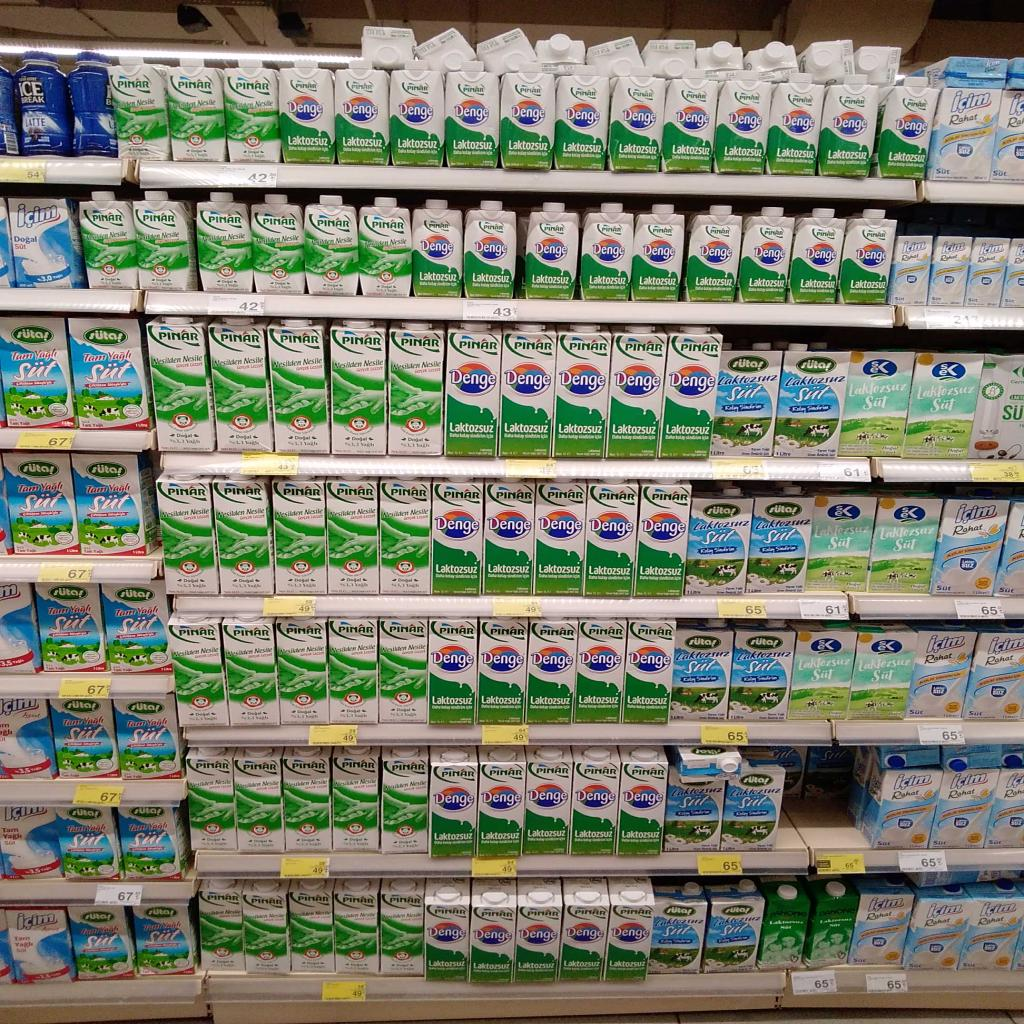price_tag: (216, 164, 278, 188), (924, 307, 984, 329), (208, 293, 265, 316), (240, 453, 299, 475), (58, 676, 110, 699), (711, 458, 767, 479), (970, 461, 1023, 483), (463, 300, 518, 321), (73, 784, 123, 807), (799, 597, 849, 620), (819, 460, 871, 482), (15, 431, 75, 450), (0, 159, 45, 184), (37, 563, 93, 583), (918, 722, 966, 745), (791, 971, 837, 995), (955, 598, 1005, 620), (263, 596, 315, 617), (898, 850, 947, 872), (280, 857, 328, 879), (95, 883, 142, 905), (718, 598, 768, 618), (492, 597, 542, 617), (697, 853, 742, 875), (701, 724, 748, 745), (816, 853, 865, 873), (309, 725, 357, 745), (506, 459, 556, 478), (321, 980, 366, 1001), (481, 725, 528, 745), (471, 857, 516, 877), (866, 972, 908, 993)
product: (68, 318, 154, 430), (147, 316, 215, 450), (72, 453, 159, 557), (903, 352, 985, 459), (209, 318, 274, 452), (772, 344, 848, 458), (0, 318, 76, 429), (268, 318, 330, 453), (659, 326, 721, 459), (711, 343, 782, 457), (605, 326, 666, 458), (551, 324, 611, 458), (839, 351, 914, 457), (931, 496, 1009, 596), (4, 452, 79, 555), (156, 474, 220, 594), (498, 324, 554, 458), (330, 321, 386, 455), (388, 322, 444, 455), (867, 496, 942, 594), (684, 489, 753, 595), (925, 84, 1000, 181), (8, 197, 87, 289), (213, 476, 274, 594), (446, 323, 500, 456), (806, 495, 879, 592), (845, 623, 915, 720), (860, 767, 942, 849), (100, 581, 172, 674), (789, 622, 857, 720), (906, 623, 976, 718), (728, 621, 795, 720), (169, 614, 228, 726), (634, 482, 691, 597), (133, 191, 198, 291), (872, 82, 939, 179), (745, 496, 812, 593), (36, 583, 107, 674), (272, 477, 327, 594), (670, 620, 734, 720), (222, 616, 280, 725), (325, 478, 379, 594), (584, 482, 638, 597), (818, 75, 878, 178), (847, 875, 913, 968), (110, 60, 171, 160), (14, 51, 72, 156), (958, 879, 1023, 971), (168, 58, 226, 161), (609, 65, 665, 171), (431, 481, 483, 595), (714, 73, 773, 173), (534, 480, 585, 595), (766, 75, 824, 176), (968, 354, 1023, 460), (702, 879, 764, 973), (662, 70, 719, 172), (390, 61, 445, 166), (224, 60, 280, 163), (380, 479, 430, 594), (484, 479, 534, 594), (905, 884, 971, 971), (275, 618, 328, 726), (335, 61, 390, 165), (197, 192, 253, 294), (963, 625, 1023, 720), (648, 878, 708, 973), (50, 698, 120, 779), (721, 761, 784, 851), (80, 192, 138, 289), (445, 62, 498, 168), (569, 747, 621, 855), (554, 68, 609, 170), (787, 209, 846, 304), (428, 747, 479, 856), (622, 619, 675, 723), (113, 698, 181, 779), (617, 747, 668, 855), (930, 768, 998, 849), (117, 804, 188, 881), (526, 619, 578, 724), (251, 194, 305, 294), (304, 196, 358, 296), (6, 907, 76, 984), (280, 65, 334, 164), (839, 209, 895, 304), (574, 619, 625, 723), (186, 747, 237, 851), (358, 197, 411, 297), (738, 207, 793, 303), (664, 767, 726, 852), (67, 51, 117, 156), (328, 618, 378, 723), (234, 747, 284, 852), (604, 876, 654, 981), (524, 202, 578, 299), (500, 70, 553, 168), (477, 618, 526, 724), (283, 747, 332, 853), (686, 207, 741, 301), (428, 619, 477, 724), (559, 879, 609, 981), (580, 204, 633, 300), (631, 205, 684, 301), (756, 876, 810, 970), (464, 201, 516, 298), (379, 618, 427, 723), (331, 746, 379, 851), (802, 876, 856, 969), (381, 747, 428, 853), (525, 746, 571, 854), (68, 905, 134, 980), (477, 753, 525, 856), (469, 878, 516, 983), (412, 200, 462, 297), (515, 879, 562, 982), (57, 805, 121, 879), (0, 698, 58, 778), (241, 880, 290, 974), (425, 879, 470, 981), (0, 805, 62, 879), (133, 902, 195, 976), (333, 878, 379, 974), (380, 879, 425, 976), (288, 880, 334, 973), (199, 880, 245, 972), (0, 583, 41, 674), (888, 234, 933, 305), (964, 237, 1010, 306), (928, 235, 972, 306), (984, 768, 1023, 848), (991, 88, 1023, 183), (1000, 239, 1023, 308)
